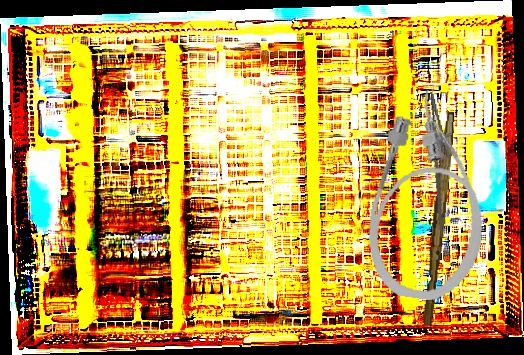Cannula: (359, 84, 501, 306)
Needle Holder: (412, 89, 472, 239)
Scalpel Handle: (421, 110, 456, 327)
